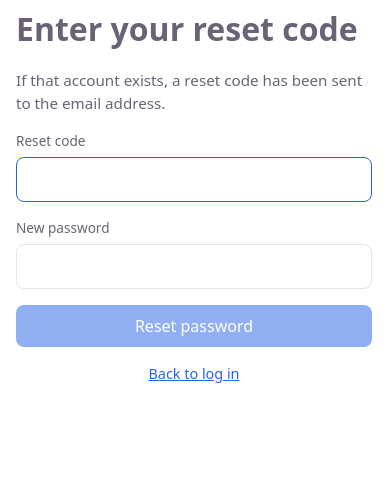
Test: ResetPasswordScreenContainer › explains an invalid or expired code and stays on the form
Type "000000" into the field labelled "Reset code".
click(194, 179); type("000000")  # box [16,157,372,202]
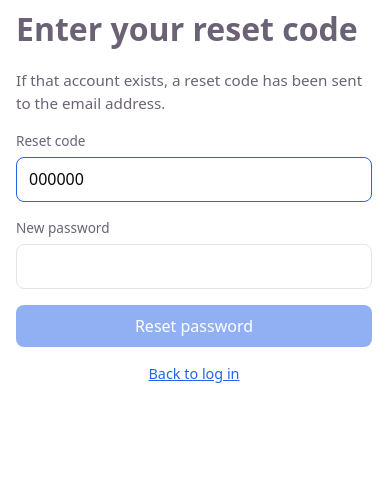
Type "new-secret" into the password field labelled "New password".
click(194, 266); type("new-secret")  # box [16,244,372,289]
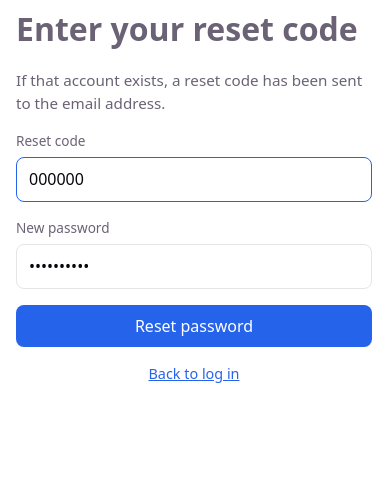
Click the button "Reset password".
click(194, 326)  # box [16,305,372,347]
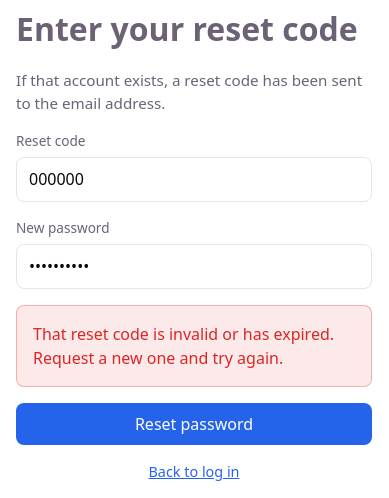
expect the message "That reset code is invalid or has expired. Request a new one and try again." is shown: met, box [16,305,372,387]
